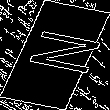N_E: (9, 28, 101, 82)
